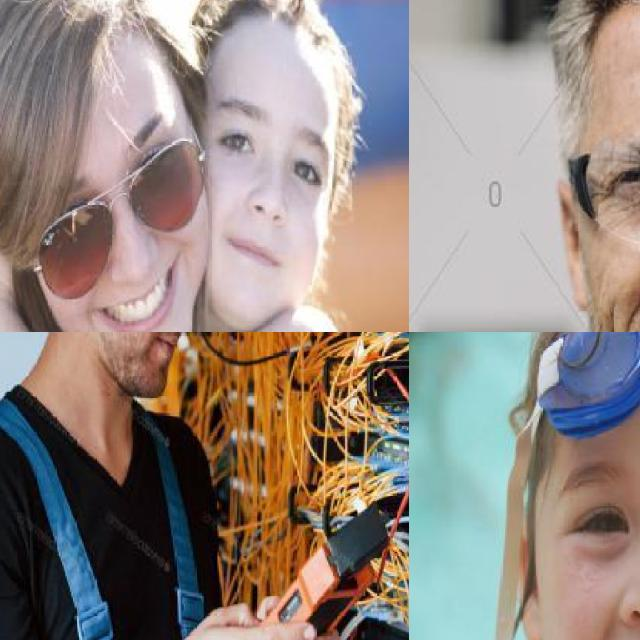No_Glasses: (540, 452, 640, 570)
face_nomask: (33, 137, 200, 332), (208, 108, 332, 285), (564, 482, 640, 640), (128, 332, 220, 376)
glasses: (21, 124, 209, 289), (529, 332, 640, 482), (568, 137, 640, 236)
hand_noglove: (178, 599, 321, 640), (0, 154, 24, 288)
head_nohelmet: (0, 0, 173, 112), (519, 332, 640, 467), (191, 0, 344, 83)
person: (0, 332, 328, 640)
